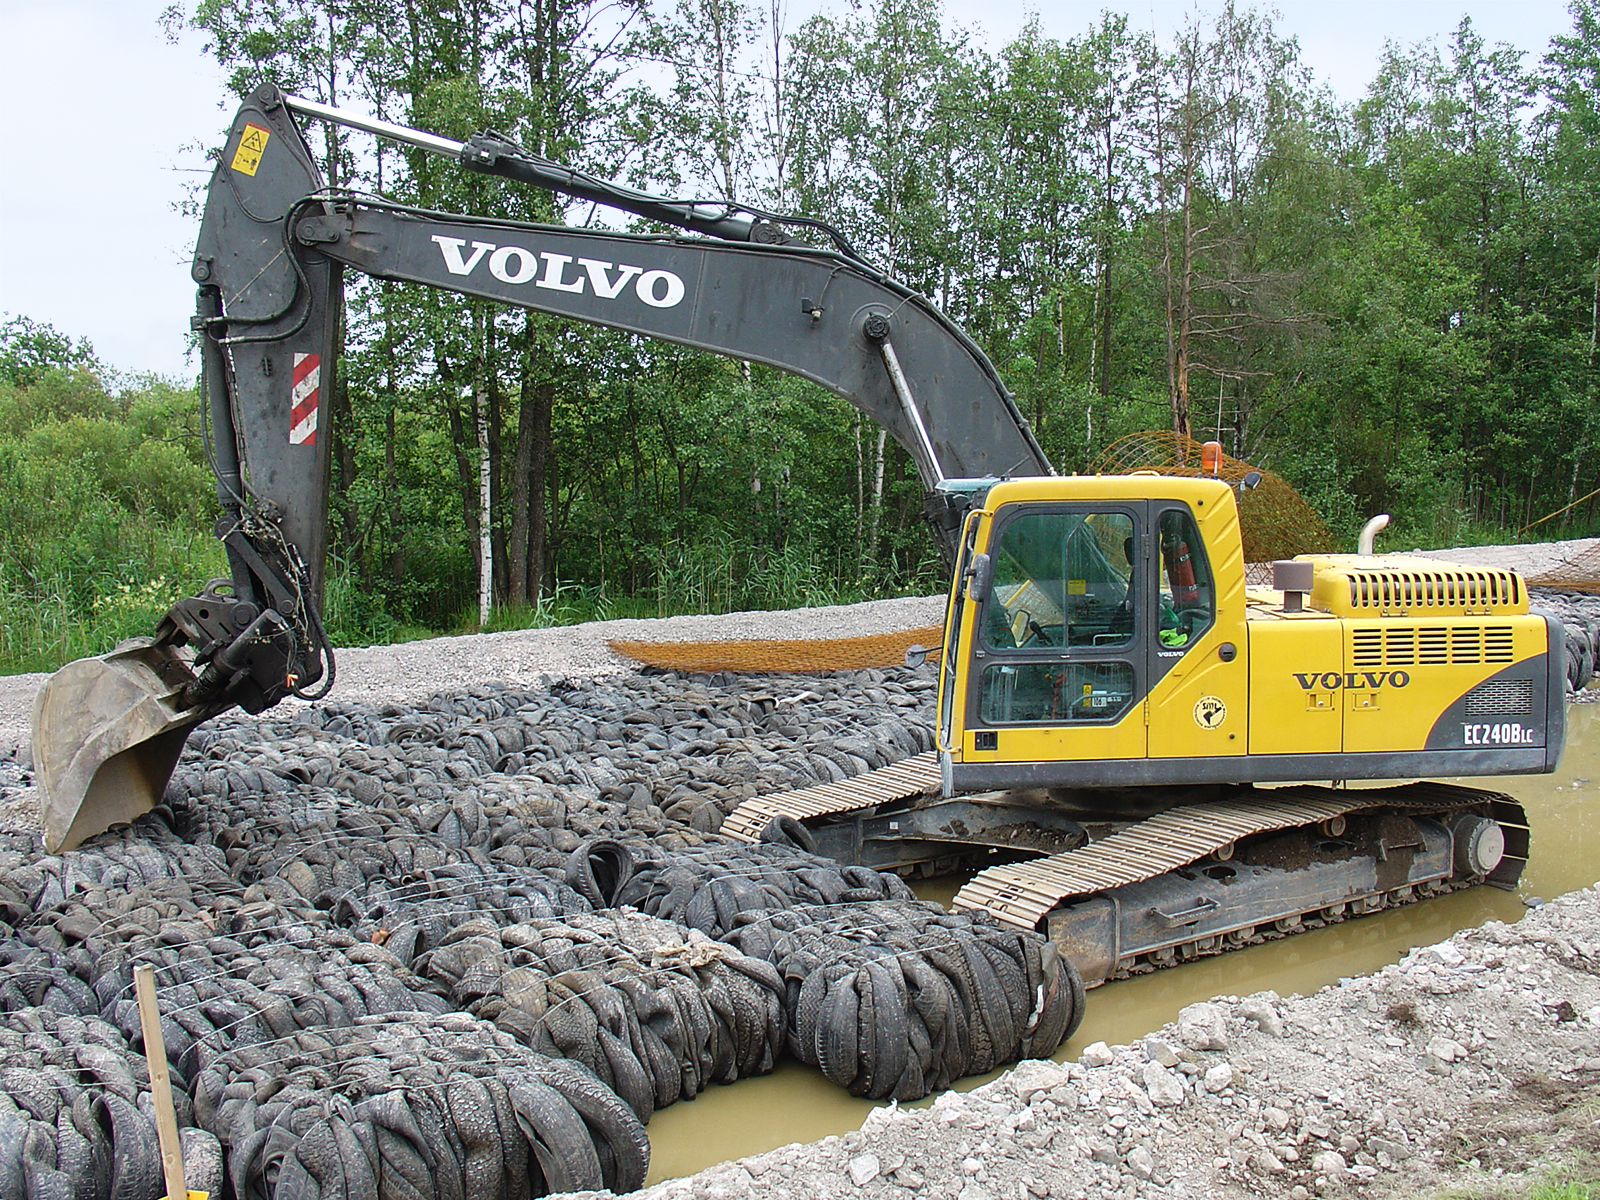excavator: (58, 88, 1547, 969)
